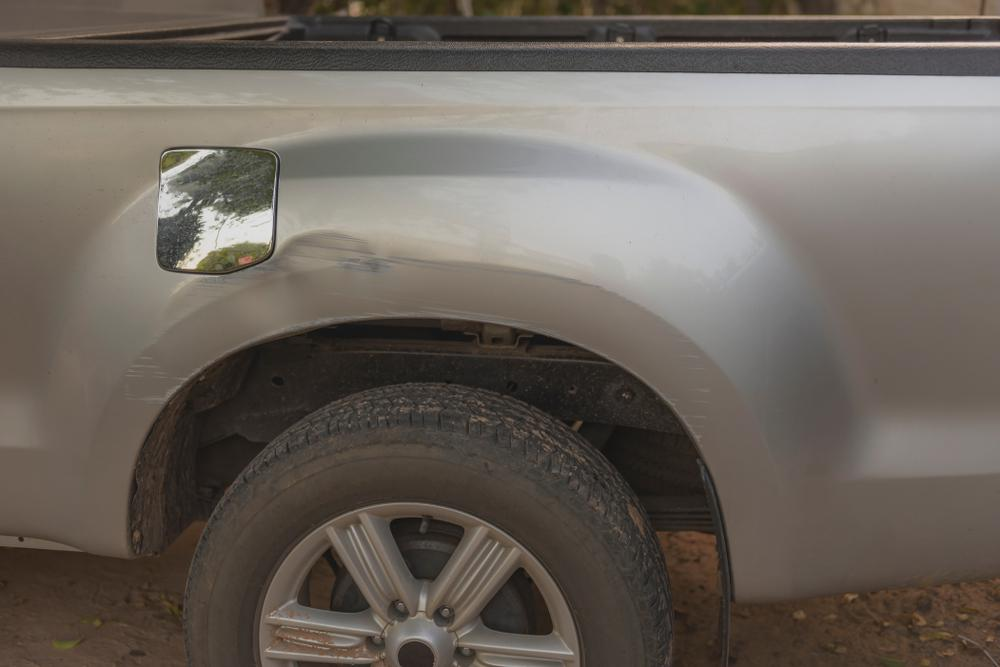dent: (156, 229, 385, 376)
scratch: (369, 249, 645, 344), (665, 335, 710, 444), (124, 347, 196, 406)
